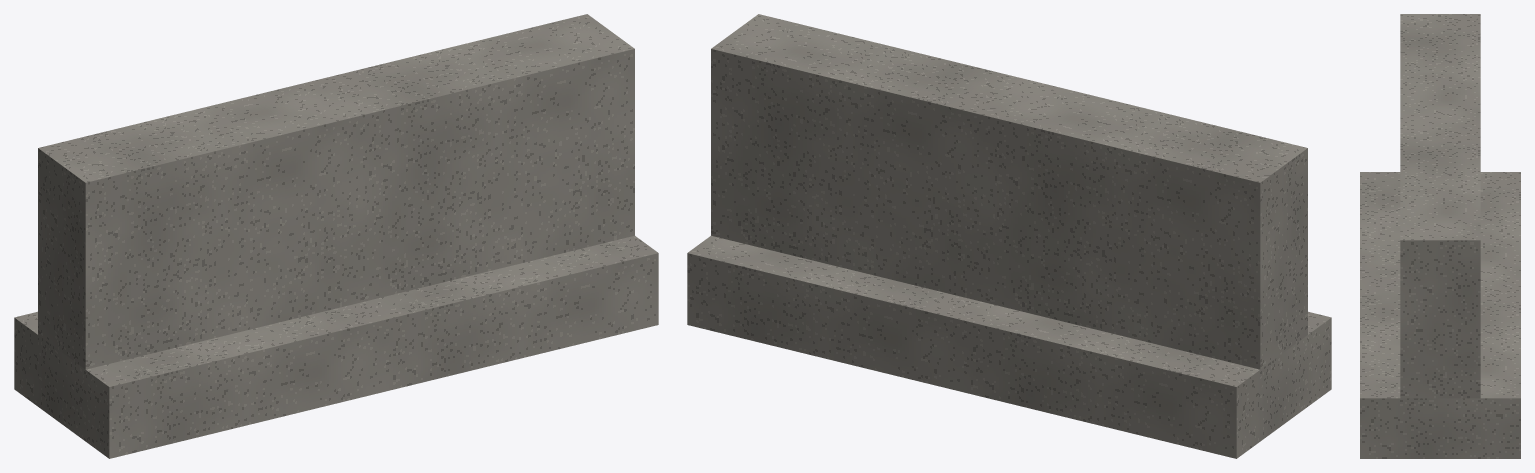
The model's file is concrete-barrier-2m.glb.
3 views of the same model, side by side, from view 1: azimuth 30°, elevation 25°; view 2: azimuth 150°, elevation 25°; view 3: azimuth 270°, elevation 25° (orthographic). The views are drawn at different scales.
Visible parts, largest first — view 1: concrete-barrier-2m; view 2: concrete-barrier-2m; view 3: concrete-barrier-2m.
Part boxes in pixels (x1,y1,x2,y2): concrete-barrier-2m: (14, 14, 658, 458); concrete-barrier-2m: (687, 14, 1331, 458); concrete-barrier-2m: (1360, 14, 1520, 458).
Size of the model in its own units: 2 by 0.9 by 0.6.
1 material, 1 textured.
